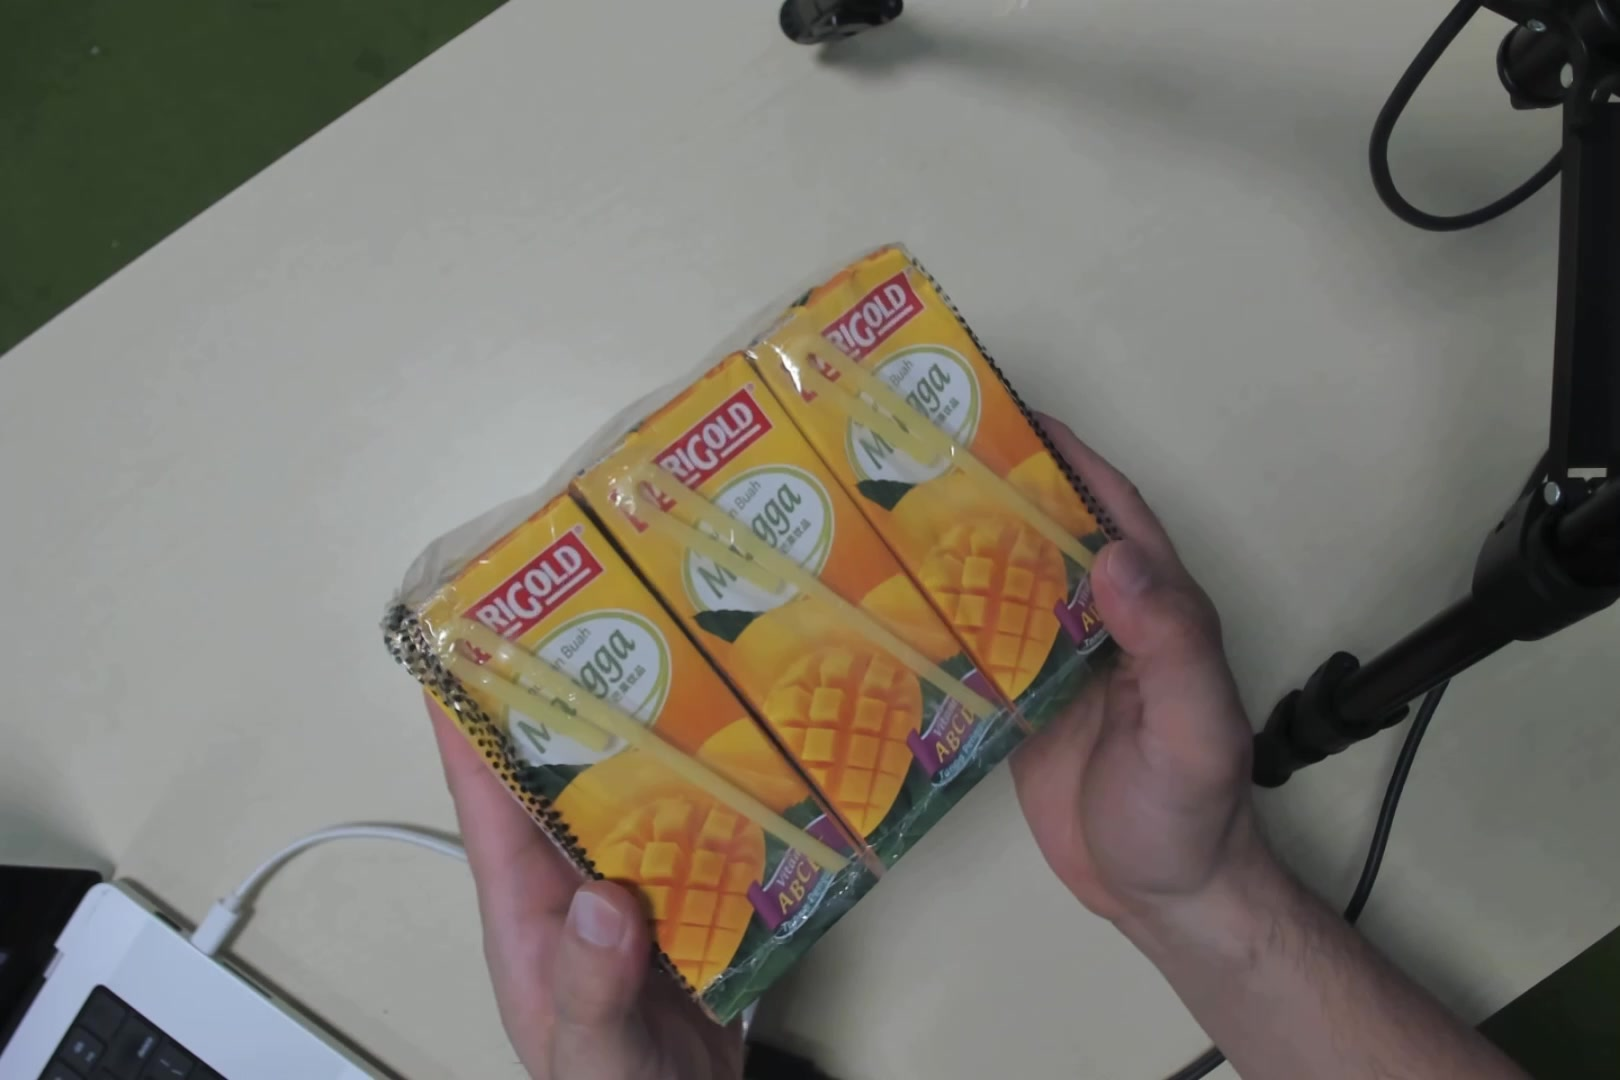FruitJuice_700-799g_Halal_NonHealthy: (427, 219, 1090, 933)
